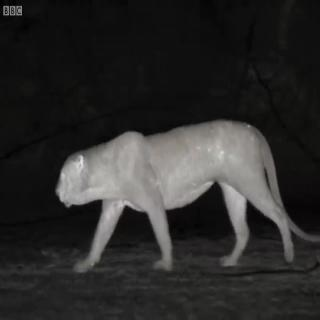Leopard: (35, 108, 320, 292)
